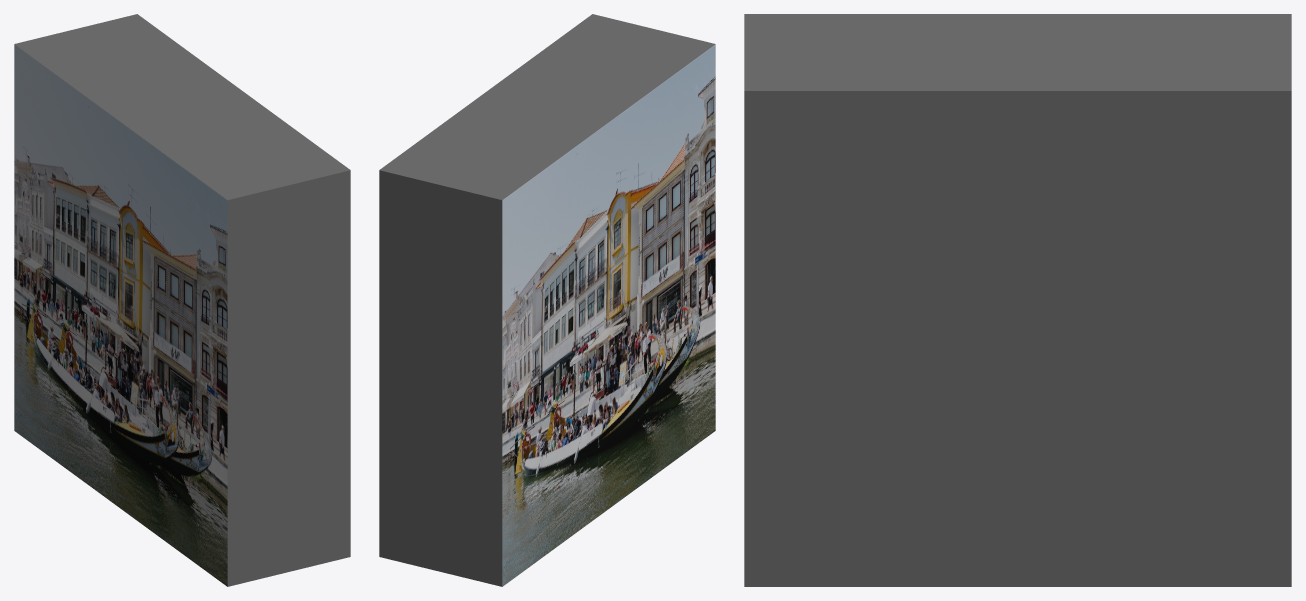
The model's file is Aveiro.fbx.
3 views of the same model, side by side, from view 1: azimuth 30°, elevation 25°; view 2: azimuth 150°, elevation 25°; view 3: azimuth 270°, elevation 25° (orthographic). The views are drawn at different scales.
Visible parts, largest first — view 1: piece2.004, piece2.002, piece2.003, piece3.002, piece4.002, piece4.001, piece1.001, piece3.001, piece2.001; view 2: piece3.002, piece3.001, piece1.001, piece2.004, piece4.002, piece4.001, piece2.002, piece2.001, piece2.003; view 3: piece4.002, piece3.002, piece2.004, piece4.001, piece2.001, piece3.001, piece1.001, piece2.002, piece2.003.
Part boxes in pixels (bbox=[...]): piece2.004: bbox=[156, 118, 350, 328]; piece2.002: bbox=[156, 406, 350, 586]; piece2.003: bbox=[156, 277, 350, 457]; piece3.002: bbox=[14, 14, 207, 224]; piece4.002: bbox=[85, 66, 278, 276]; piece4.001: bbox=[85, 225, 156, 405]; piece1.001: bbox=[14, 302, 85, 482]; piece3.001: bbox=[14, 173, 85, 353]; piece2.001: bbox=[85, 354, 156, 534]; piece3.002: bbox=[379, 118, 573, 328]; piece3.001: bbox=[379, 277, 573, 457]; piece1.001: bbox=[379, 406, 573, 586]; piece2.004: bbox=[522, 14, 715, 224]; piece4.002: bbox=[451, 66, 644, 276]; piece4.001: bbox=[573, 225, 644, 405]; piece2.002: bbox=[644, 302, 715, 482]; piece2.001: bbox=[573, 354, 644, 534]; piece2.003: bbox=[644, 173, 715, 353]; piece4.002: bbox=[926, 14, 1109, 256]; piece3.002: bbox=[1109, 14, 1291, 256]; piece2.004: bbox=[744, 14, 926, 256]; piece4.001: bbox=[926, 256, 1109, 421]; piece2.001: bbox=[926, 421, 1109, 586]; piece3.001: bbox=[1109, 256, 1291, 421]; piece1.001: bbox=[1109, 421, 1291, 586]; piece2.002: bbox=[744, 421, 926, 586]; piece2.003: bbox=[744, 256, 926, 421].
Bounding box in the file's own units: 800 × 2400 × 2400.
Materials: 2 (1 with a texture image).
